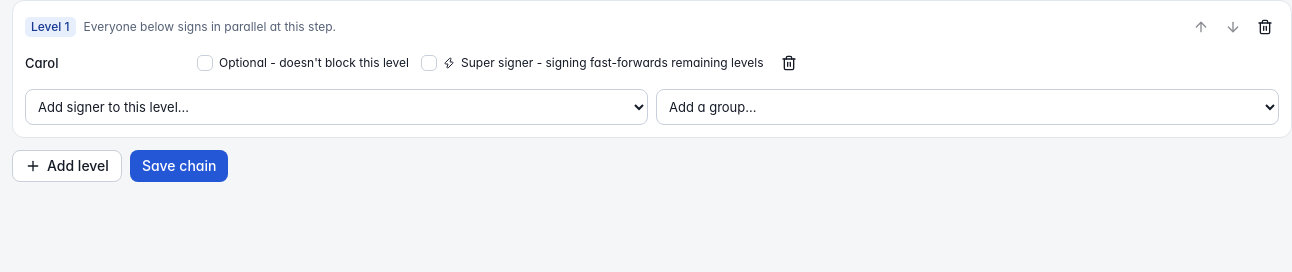
signature chain editor › sends groups per level and shows the server reason when saving is refused
Select "Legal" in the dropdown named "Add a group to level 1". click: (968, 107)
box: x1=656 y1=89 x2=1279 y2=125
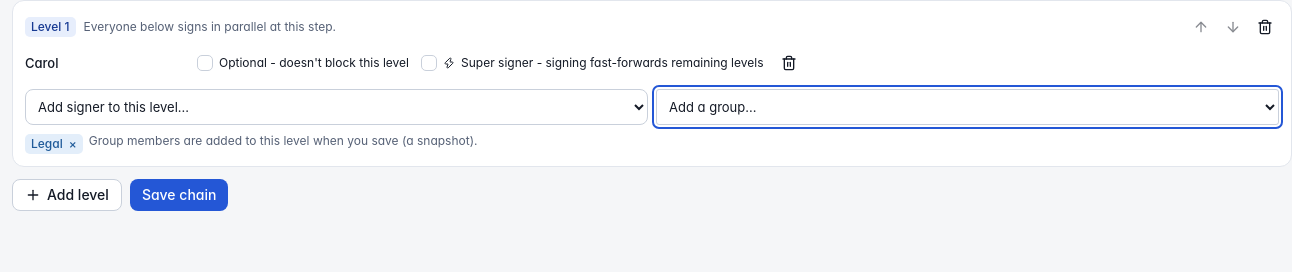
Result: the list item "added to this level when you save" is shown at x1=89 y1=133 x2=477 y2=148
Click the button "Save chain". click: (179, 195)
box: x1=130 y1=179 x2=228 y2=211
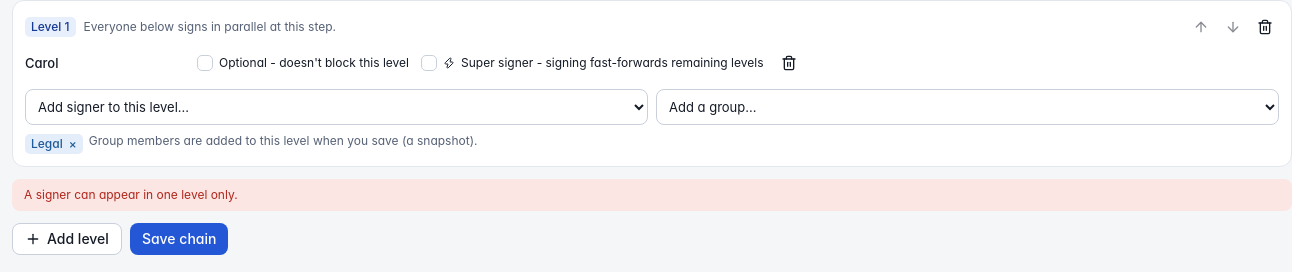
Result: the message shows "one level only" at x1=24 y1=187 x2=238 y2=202
